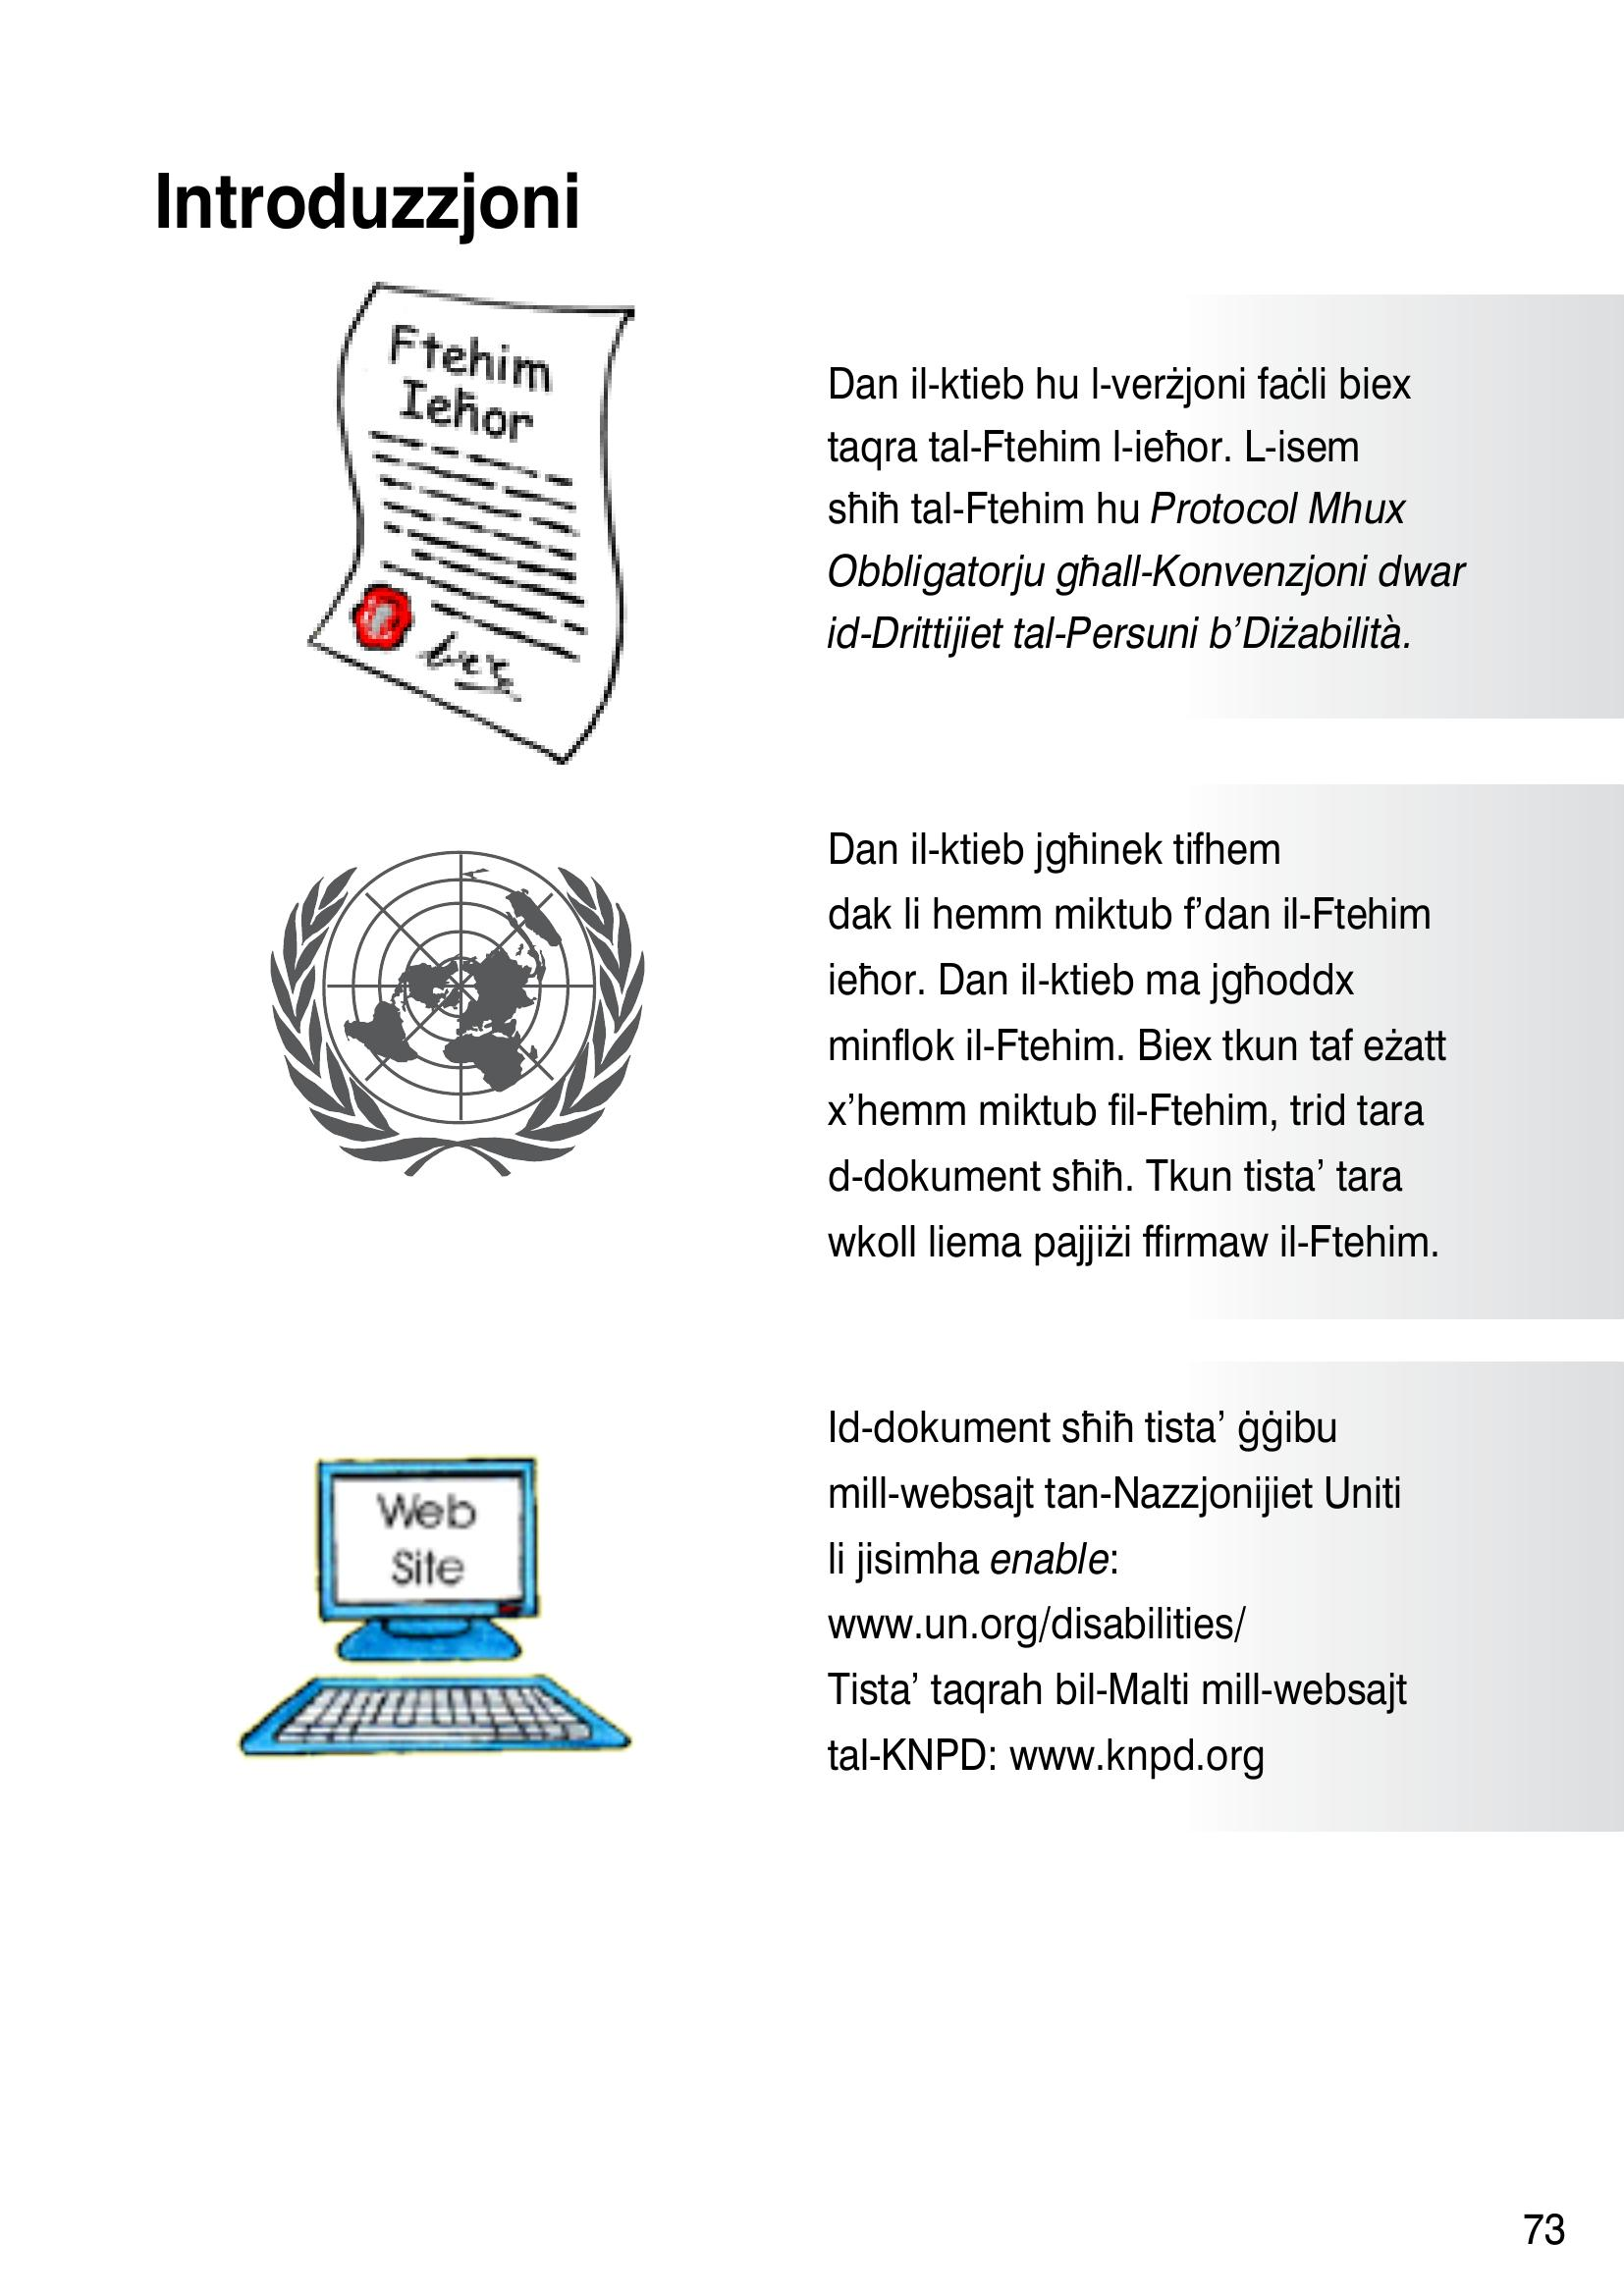text: (786, 321, 1503, 1801), (114, 130, 631, 272)
